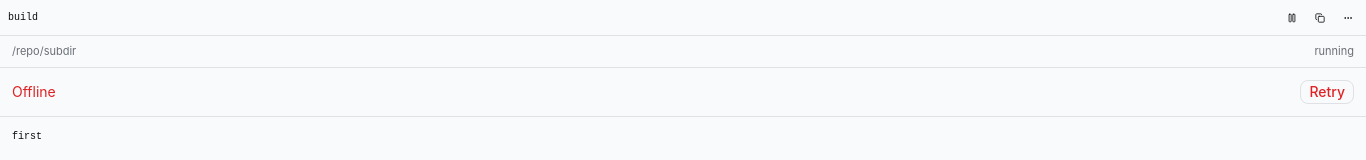
Scenario: CommandTab › retains logs on failure and retries from the last successful cursor
The width and height of the screenshot is (1366, 160).
Expected: the message "Offline Retry" is shown, left=0, top=68, right=1365, bottom=117
Expected: the text "first" is shown, left=12, top=131, right=42, bottom=142
Click the button "Retry" at (1327, 92), box left=1300, top=80, right=1354, bottom=104
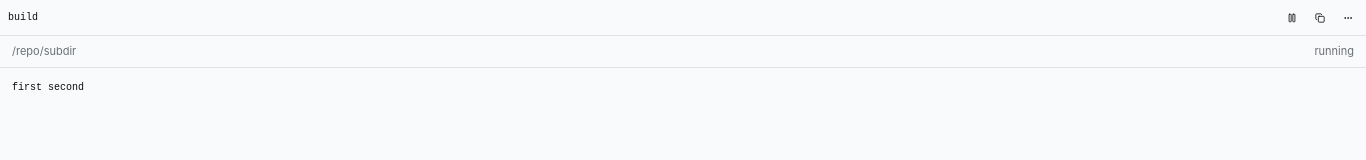
Now the text "first second" is shown, box left=12, top=82, right=84, bottom=93
